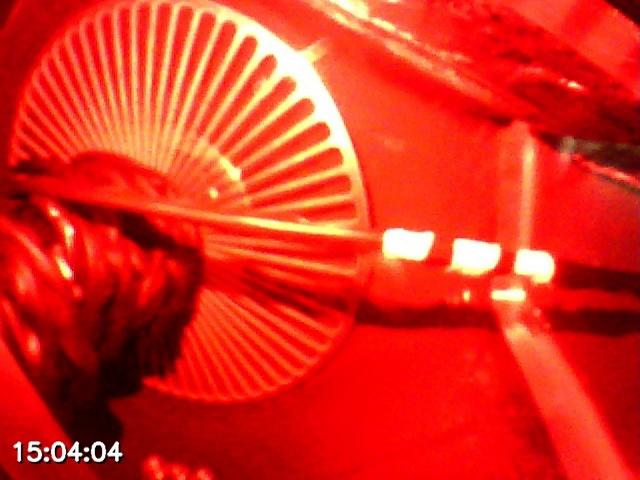white-dots: (383, 228, 555, 285)
